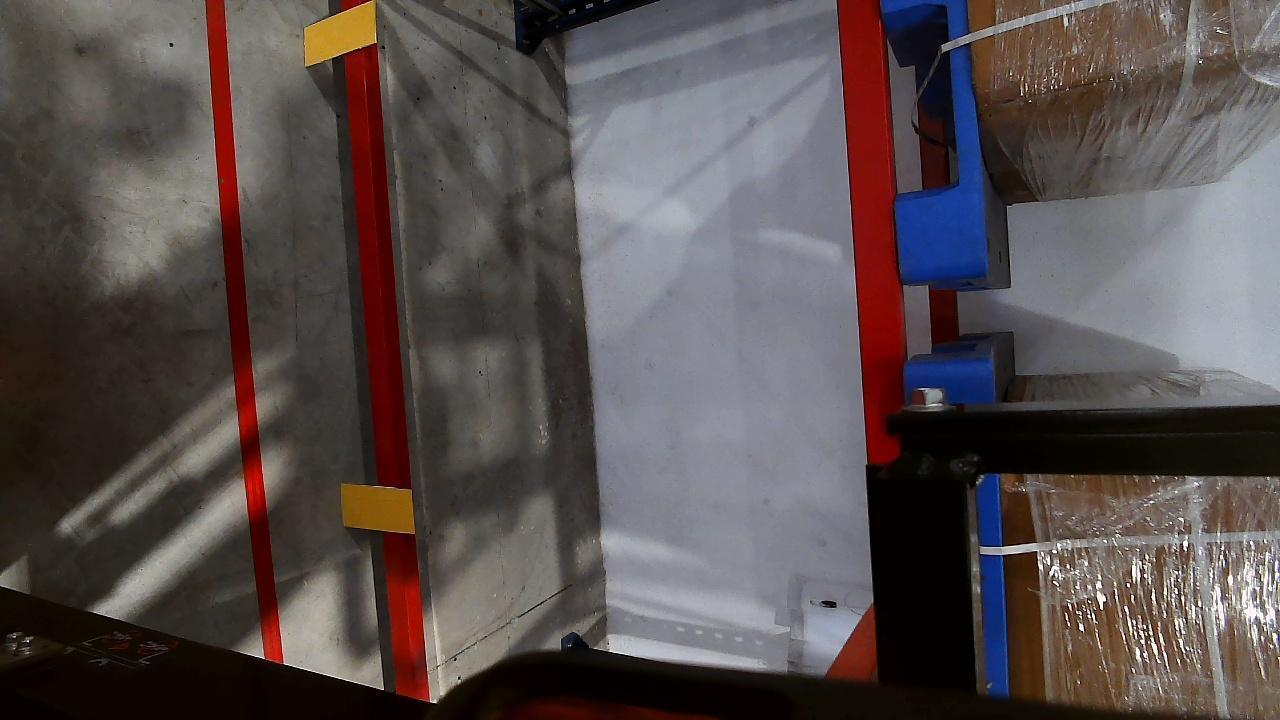red_line: (202, 1, 267, 613)
